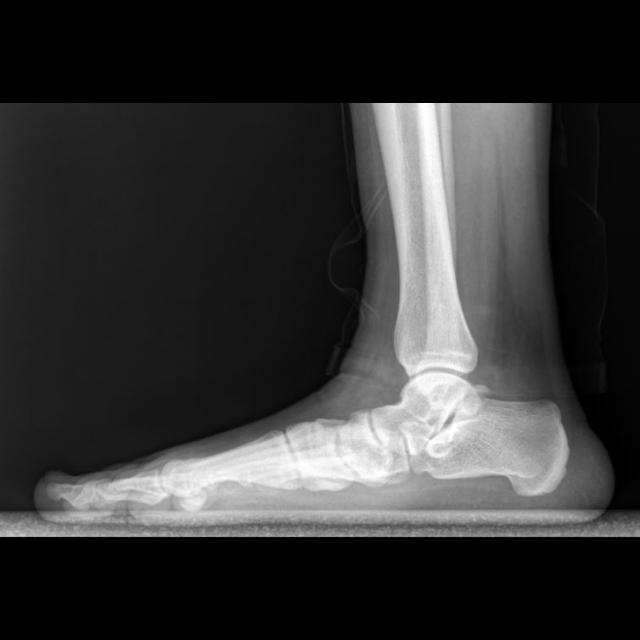a: (410, 394, 569, 496)
b: (337, 408, 390, 479)
c: (159, 430, 302, 496)
